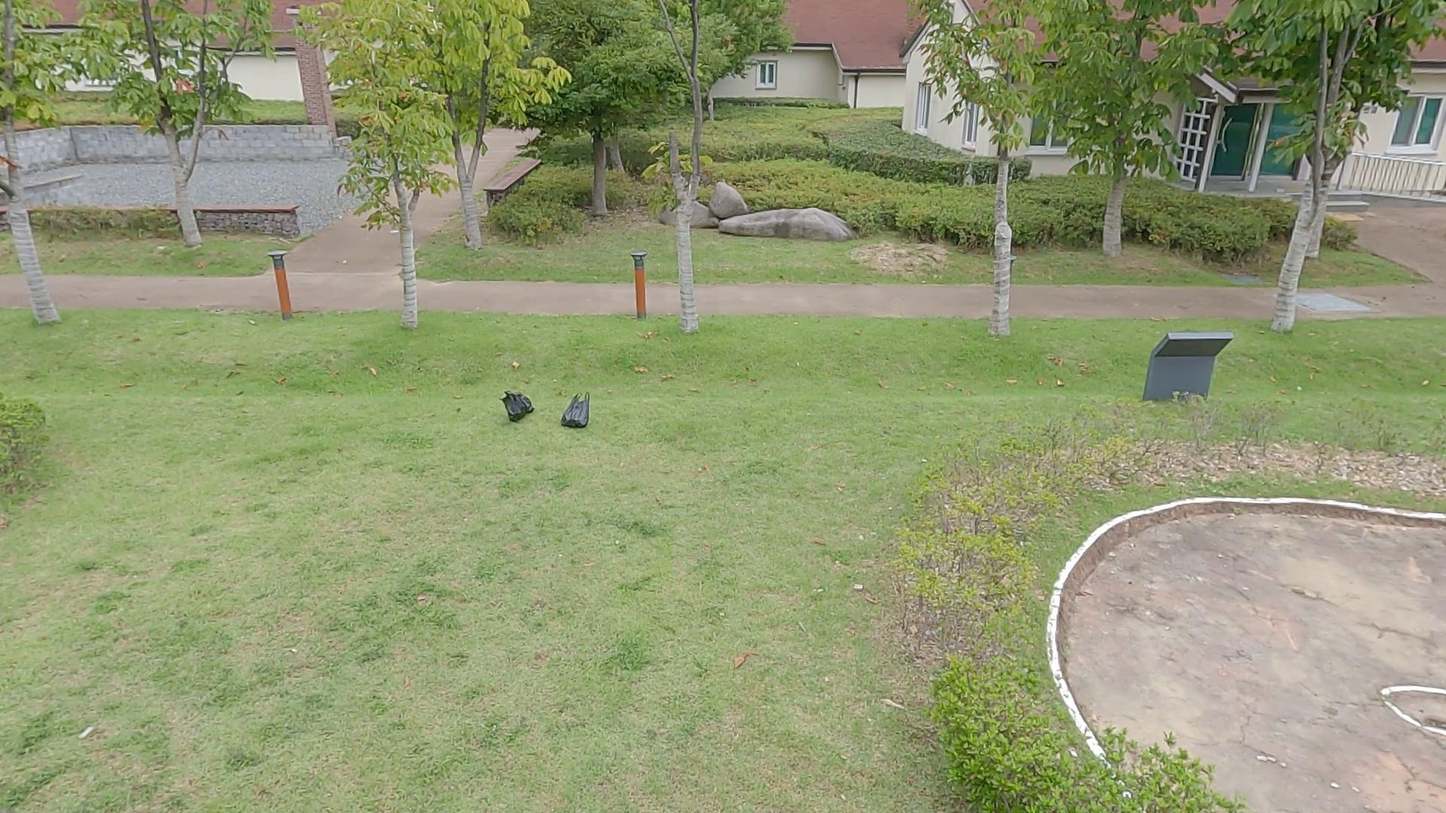trash: (556, 388, 588, 433), (503, 388, 539, 421)
